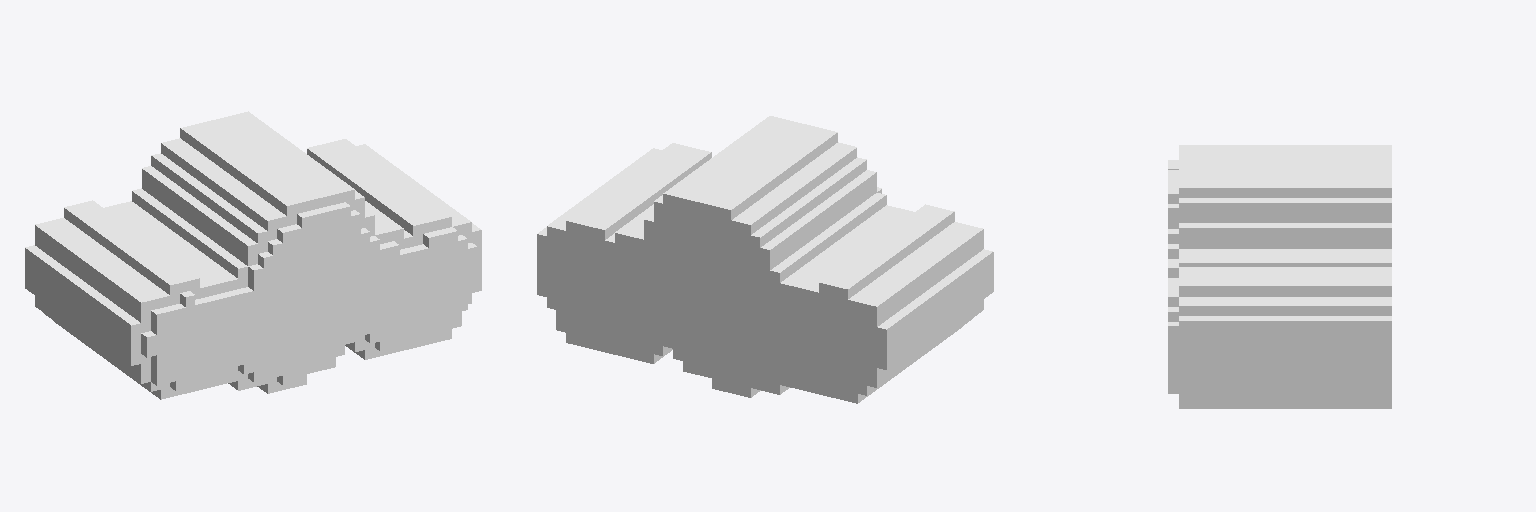
The model's file is Sleeper-0-Monster.obj.
3 views of the same model, side by side, from view 1: azimuth 30°, elevation 25°; view 2: azimuth 150°, elevation 25°; view 3: azimuth 270°, elevation 25° (orthographic).
Visible parts, largest first — view 1: Monster; view 2: Monster; view 3: Monster.
Boxes of the visible parts, x1,y1,x2,y2 form: Monster: [25, 111, 481, 399]; Monster: [537, 116, 993, 403]; Monster: [1168, 145, 1391, 408].
Bounding box in the file's own units: 3.6 × 1.8 × 2.